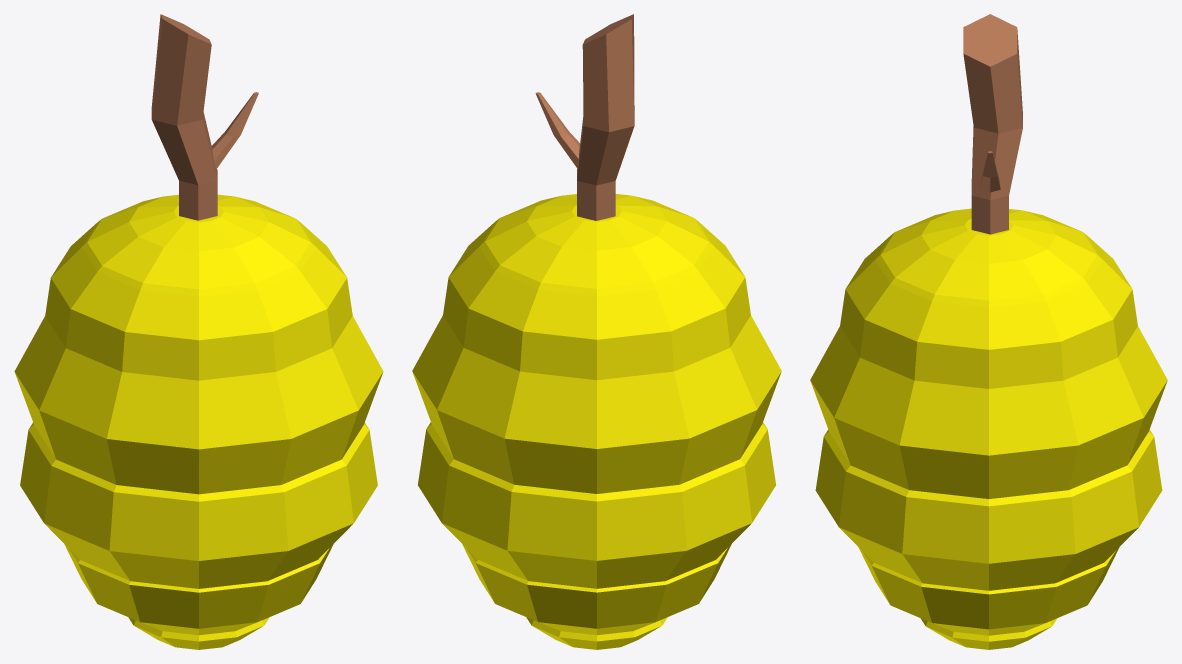
3 renders of one model, left to right at view 1: azimuth 30°, elevation 25°; view 2: azimuth 150°, elevation 25°; view 3: azimuth 270°, elevation 25°, orthographic. The views are drawn at different scales.
Parts seen in each view (by area): view 1: tier, stalk_segment; view 2: tier, stalk_segment; view 3: tier, stalk_segment.
Boxes of the visible parts, x1=… form: tier: x1=14, y1=194, x2=383, y2=649; stalk_segment: x1=151, y1=14, x2=258, y2=220; tier: x1=412, y1=194, x2=781, y2=649; stalk_segment: x1=535, y1=14, x2=634, y2=220; tier: x1=810, y1=208, x2=1167, y2=649; stalk_segment: x1=963, y1=14, x2=1022, y2=234.
Size of the model in its own units: 0.132 by 0.2503 by 0.132.
